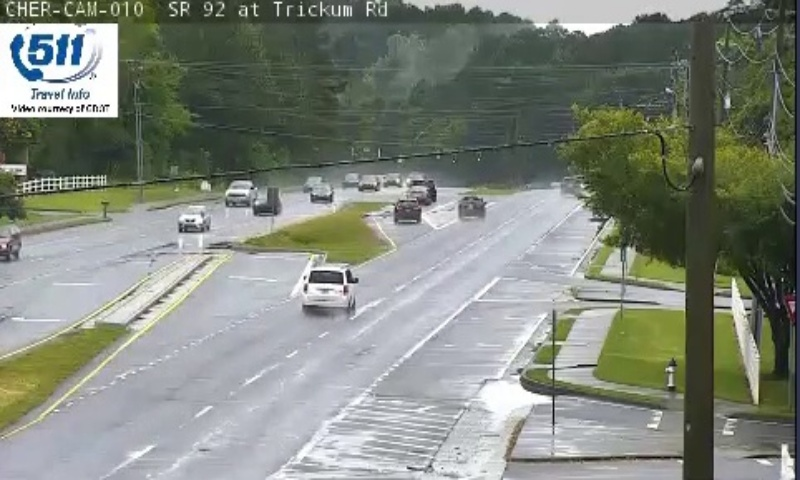car: (302, 265, 353, 308), (458, 194, 486, 218), (393, 200, 421, 223)
